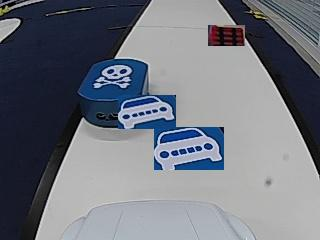danger: (93, 65, 130, 89)
